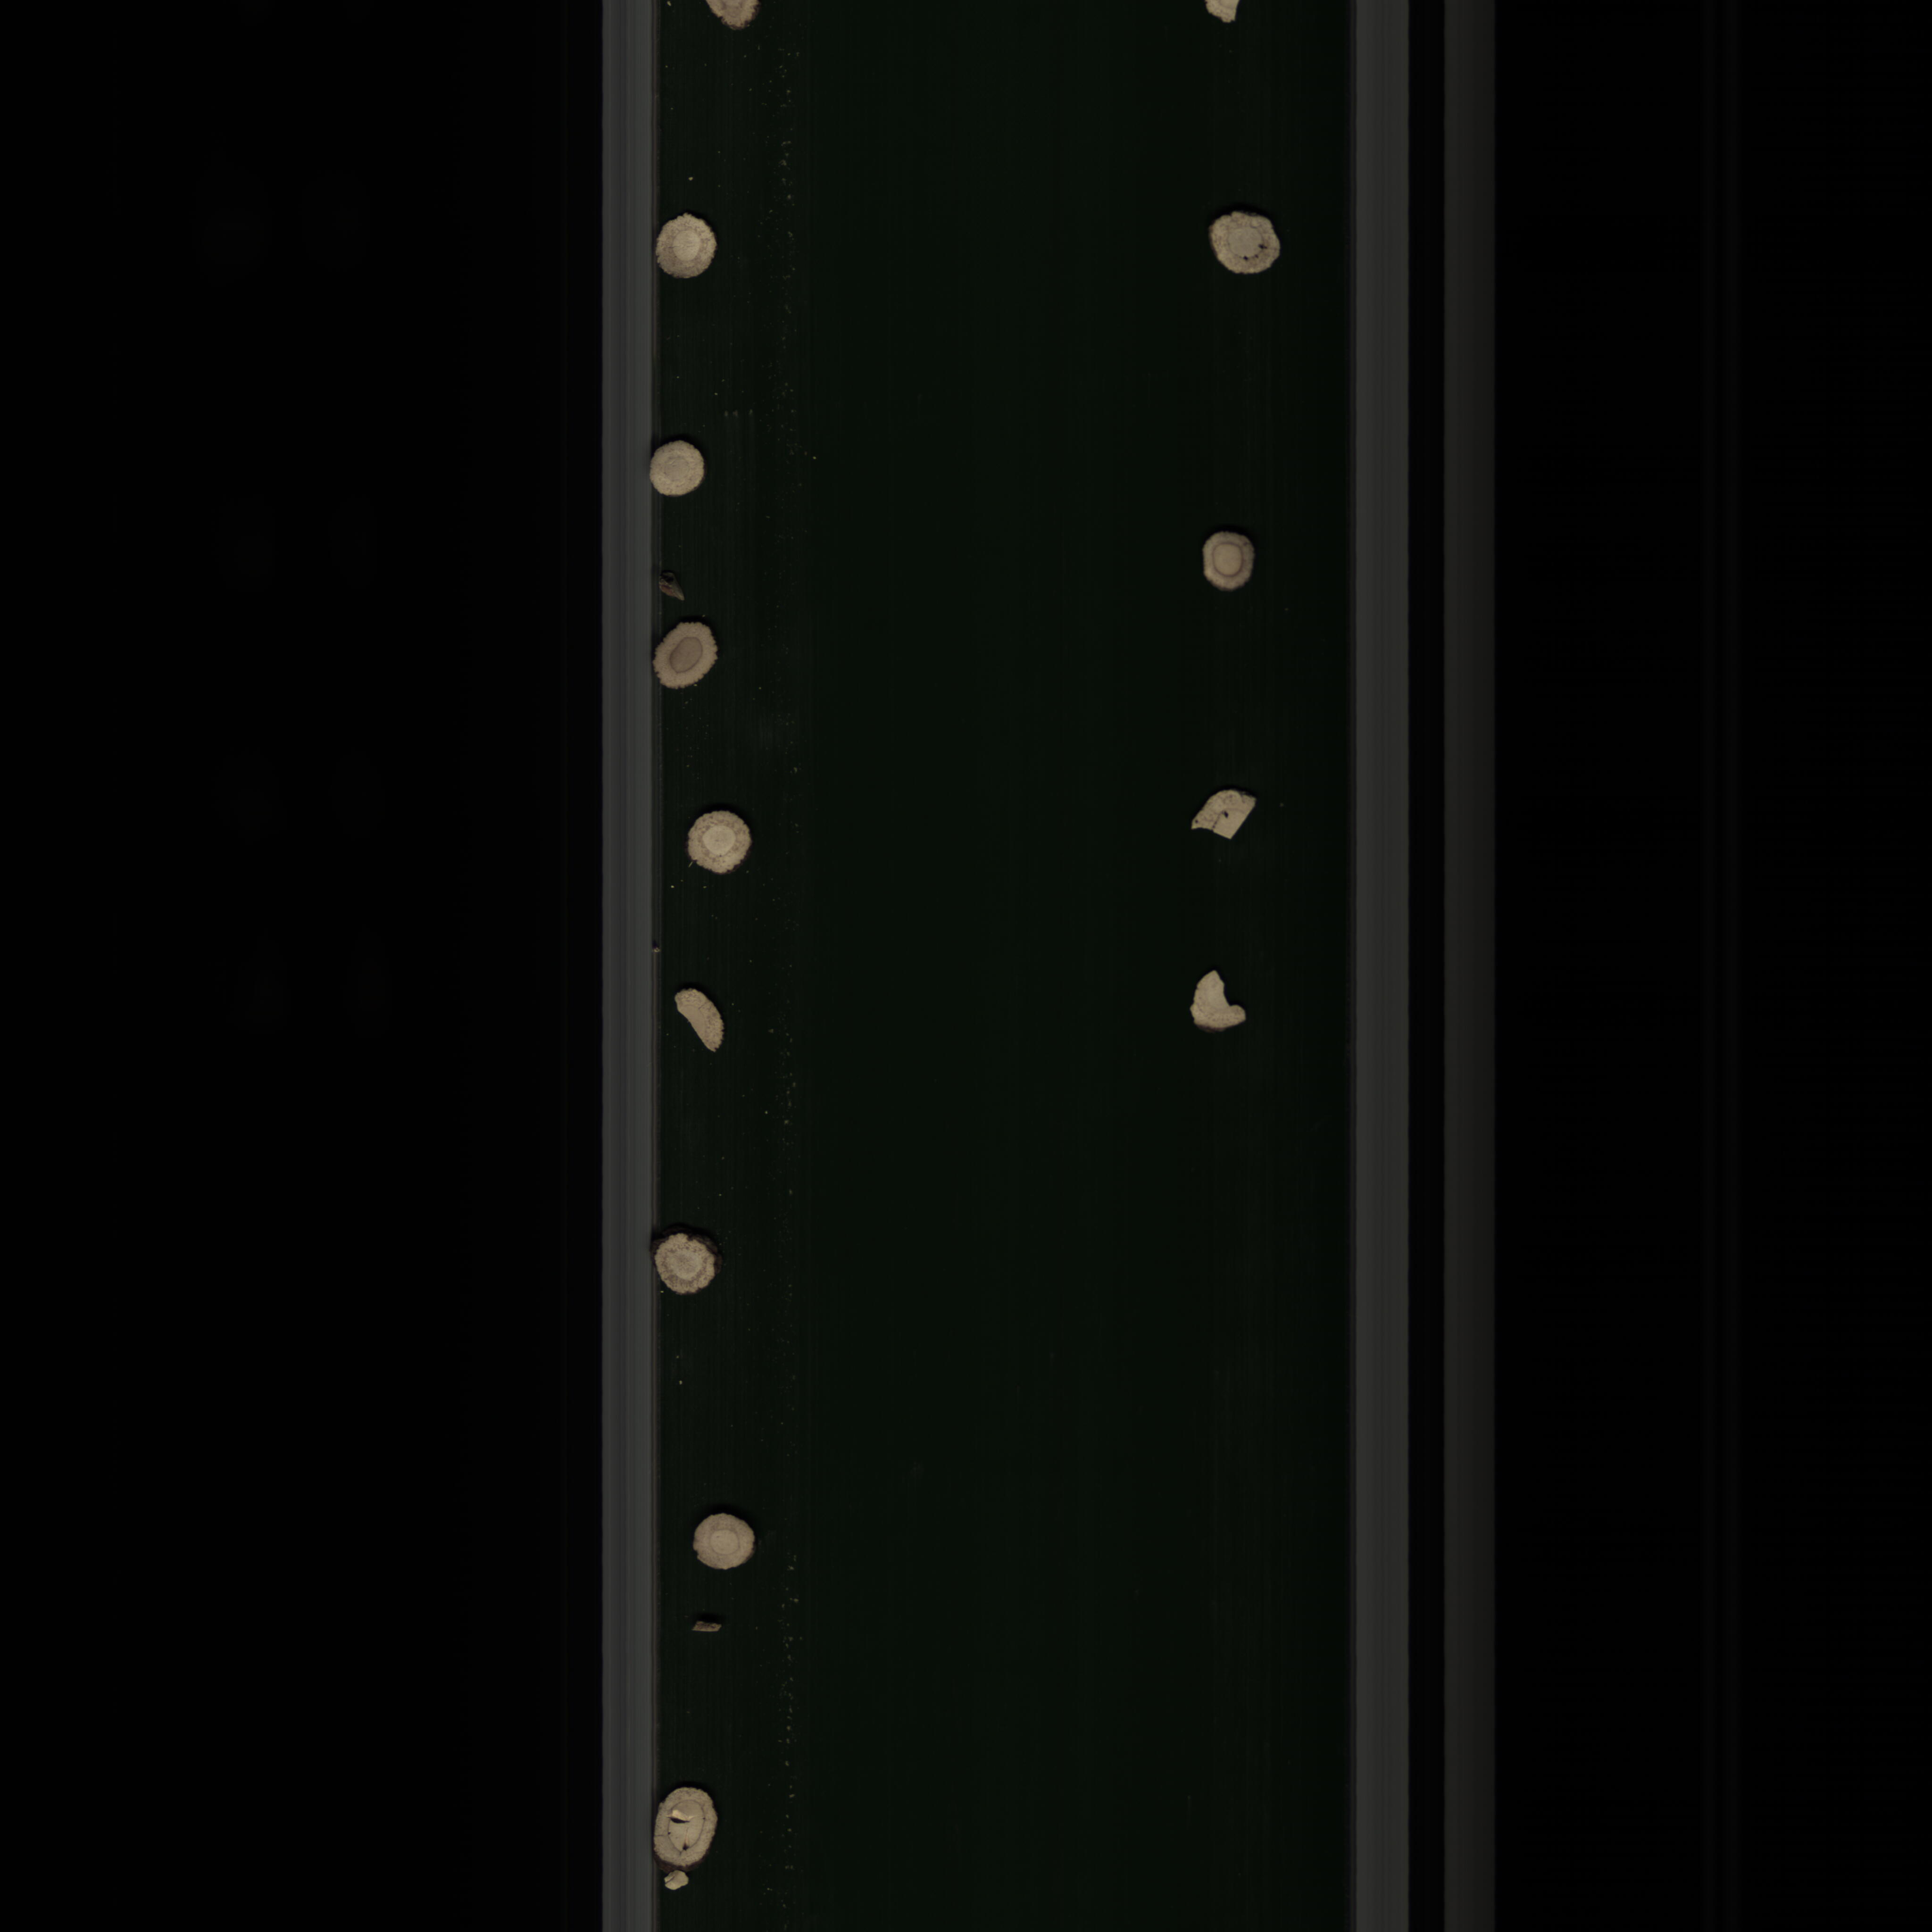debris: (1187, 962, 1260, 1049), (1185, 782, 1269, 849), (671, 982, 729, 1058)
hole: (649, 1773, 729, 1874), (1207, 211, 1297, 292)
moldy: (648, 616, 731, 686), (651, 1231, 718, 1302)
